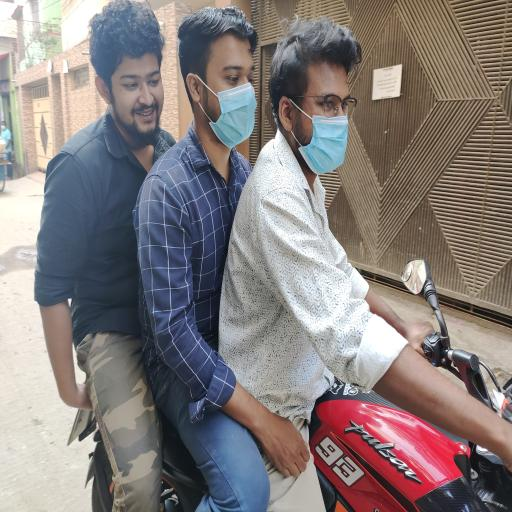overloading: (32, 4, 507, 508), (67, 256, 510, 510)
